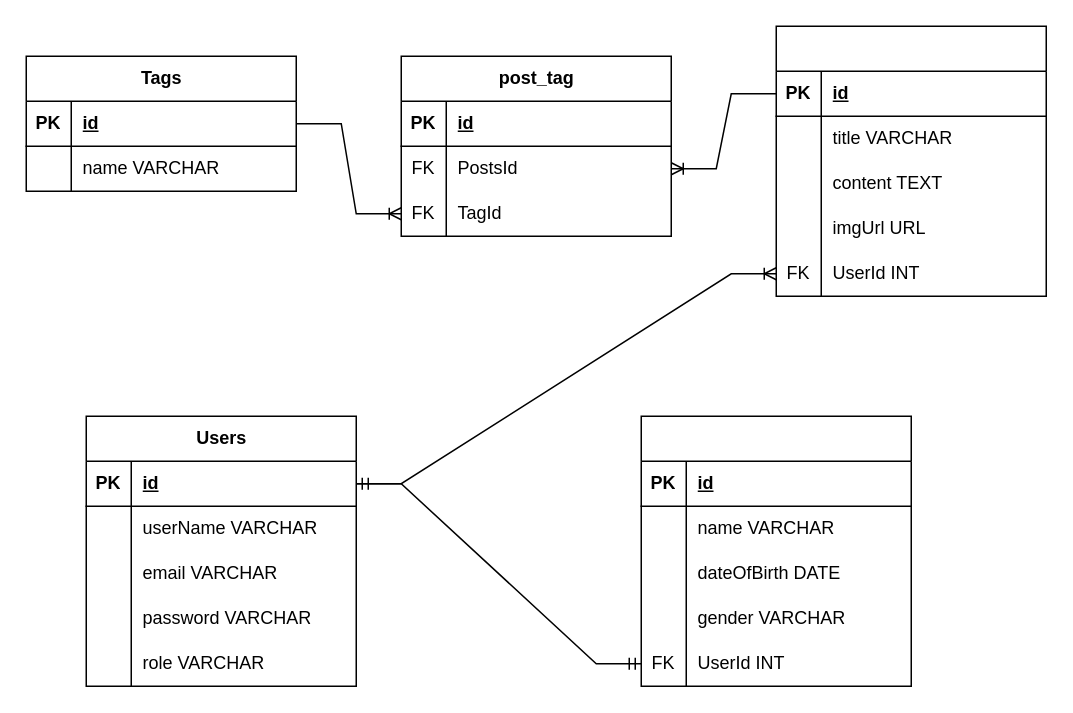
This 1073x713 diagram has some shape labels left out. The shapes that lost their labels are listed below. From the top down, each one's box as (x1, y1, x2, y2) in pixels, then its label:
(775, 25, 1046, 296): Posts
(640, 415, 911, 686): Profiles
